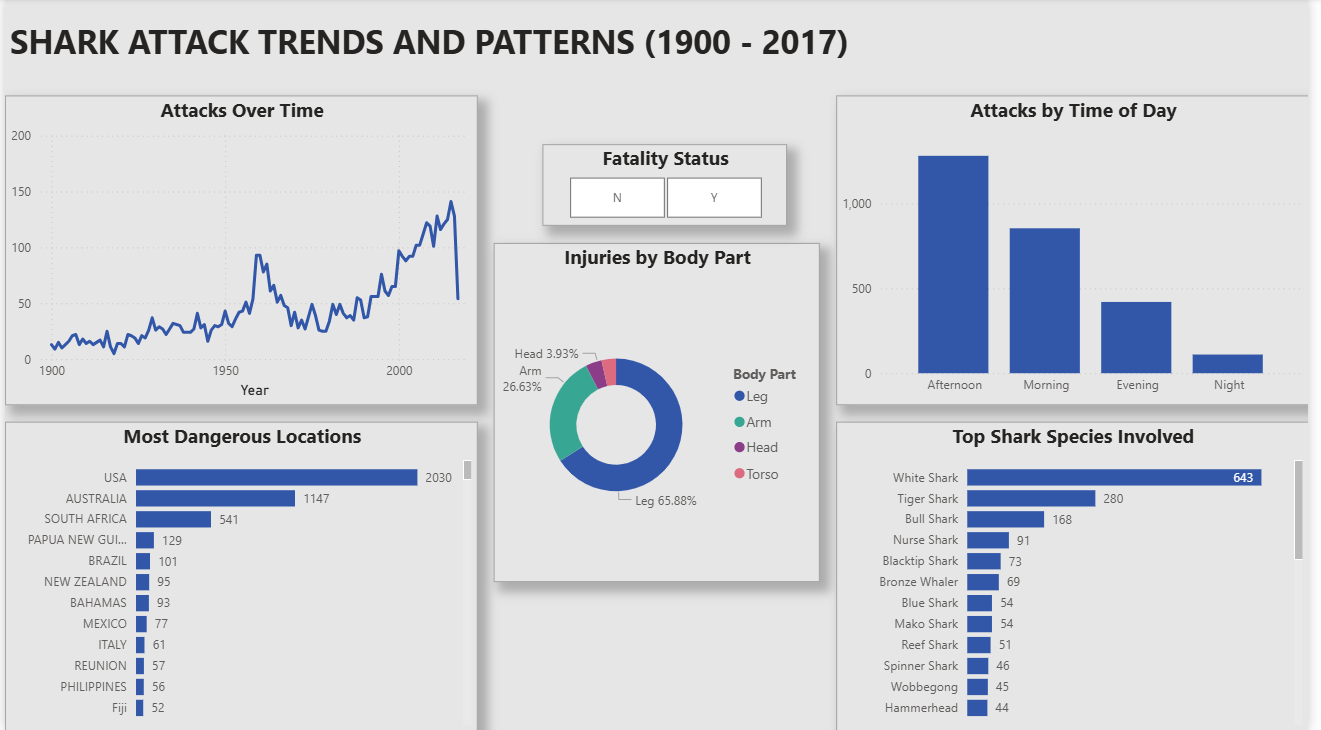

Layout of this report page (visuals, bound fields, positions):
{"tool":"powerbi","page":{"name":"Page 1","canvas":[1280,720],"ordinal":0},"visuals":[{"type":"lineChart","title":"Attacks Over Time","fields":{"Category":["attacks.Year"],"Y":["Count(attacks.Case Number)"]},"box":[0,96,464,304],"z":0},{"type":"clusteredBarChart","title":"Most Dangerous Locations","fields":{"Category":["attacks.Country","attacks.Area","attacks.Location"],"Y":["CountNonNull(attacks.Case Number)"]},"box":[0,416,464,304],"z":1000},{"type":"donutChart","title":"Injuries by Body Part","fields":{"Category":["attacks.Body Part"],"Y":["CountNonNull(attacks.Case Number)"]},"box":[480,240,320,333],"z":2000},{"type":"clusteredColumnChart","title":"Attacks by Time of Day","fields":{"Category":["attacks.Time of Day"],"Y":["CountNonNull(attacks.Case Number)"]},"box":[816,96,464,304],"z":3000},{"type":"clusteredBarChart","title":"Top Shark Species Involved","fields":{"Category":["attacks.Clean Species"],"Y":["CountNonNull(attacks.Case Number)"]},"box":[816,416,464,304],"z":4000},{"type":"slicer","title":"Fatality Status","fields":{"Values":["attacks.Fatal (Y/N)"]},"box":[528,144,240,80],"z":5000},{"type":"textbox","box":[0,16,848,64],"z":7000}]}

Visuals, with their boxes in screenshot pixels (x1, y1, x2, y2), scaled from the page's 1280x720 canvas onto the 1321x730 screenshot:
"Attacks Over Time" lineChart: BBox(0, 97, 479, 406)
"Most Dangerous Locations" clusteredBarChart: BBox(0, 422, 479, 729)
"Injuries by Body Part" donutChart: BBox(495, 243, 826, 581)
"Attacks by Time of Day" clusteredColumnChart: BBox(842, 97, 1320, 406)
"Top Shark Species Involved" clusteredBarChart: BBox(842, 422, 1320, 729)
"Fatality Status" slicer: BBox(545, 146, 793, 227)
textbox: BBox(0, 16, 875, 81)
